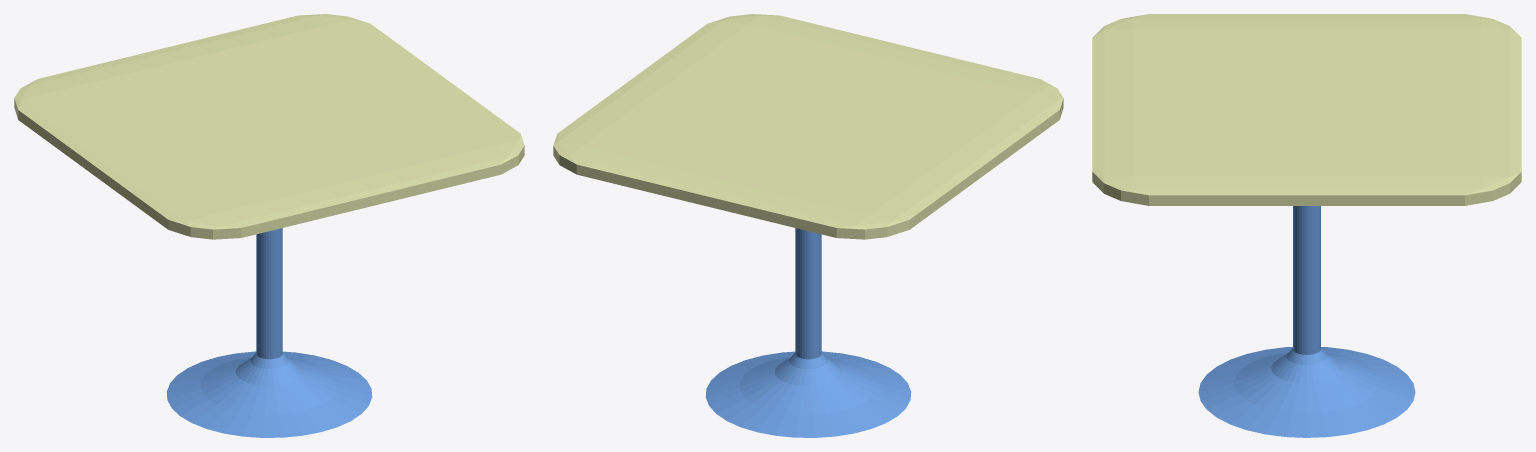
The model's file is TableFoodCourt.fbx.
3 views of the same model, side by side, from view 1: azimuth 30°, elevation 25°; view 2: azimuth 150°, elevation 25°; view 3: azimuth 270°, elevation 25° (orthographic). The views are drawn at different scales.
Parts seen in each view (by area): view 1: Cube, Cylinder; view 2: Cube, Cylinder; view 3: Cube, Cylinder.
Part boxes in pixels (x1=…): Cube: x1=14, y1=14, x2=524, y2=239; Cylinder: x1=166, y1=228, x2=372, y2=437; Cube: x1=553, y1=14, x2=1063, y2=239; Cylinder: x1=705, y1=228, x2=911, y2=437; Cube: x1=1092, y1=14, x2=1521, y2=205; Cylinder: x1=1198, y1=206, x2=1415, y2=437.
Bounding box in the file's own units: 762 × 567 × 762.
